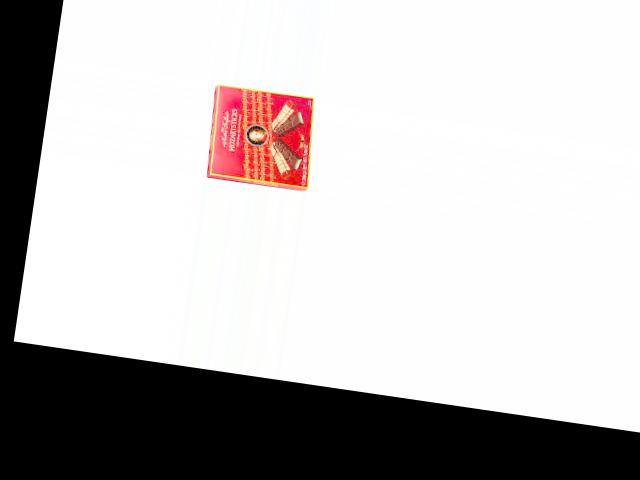chocolate: (204, 81, 324, 193)
